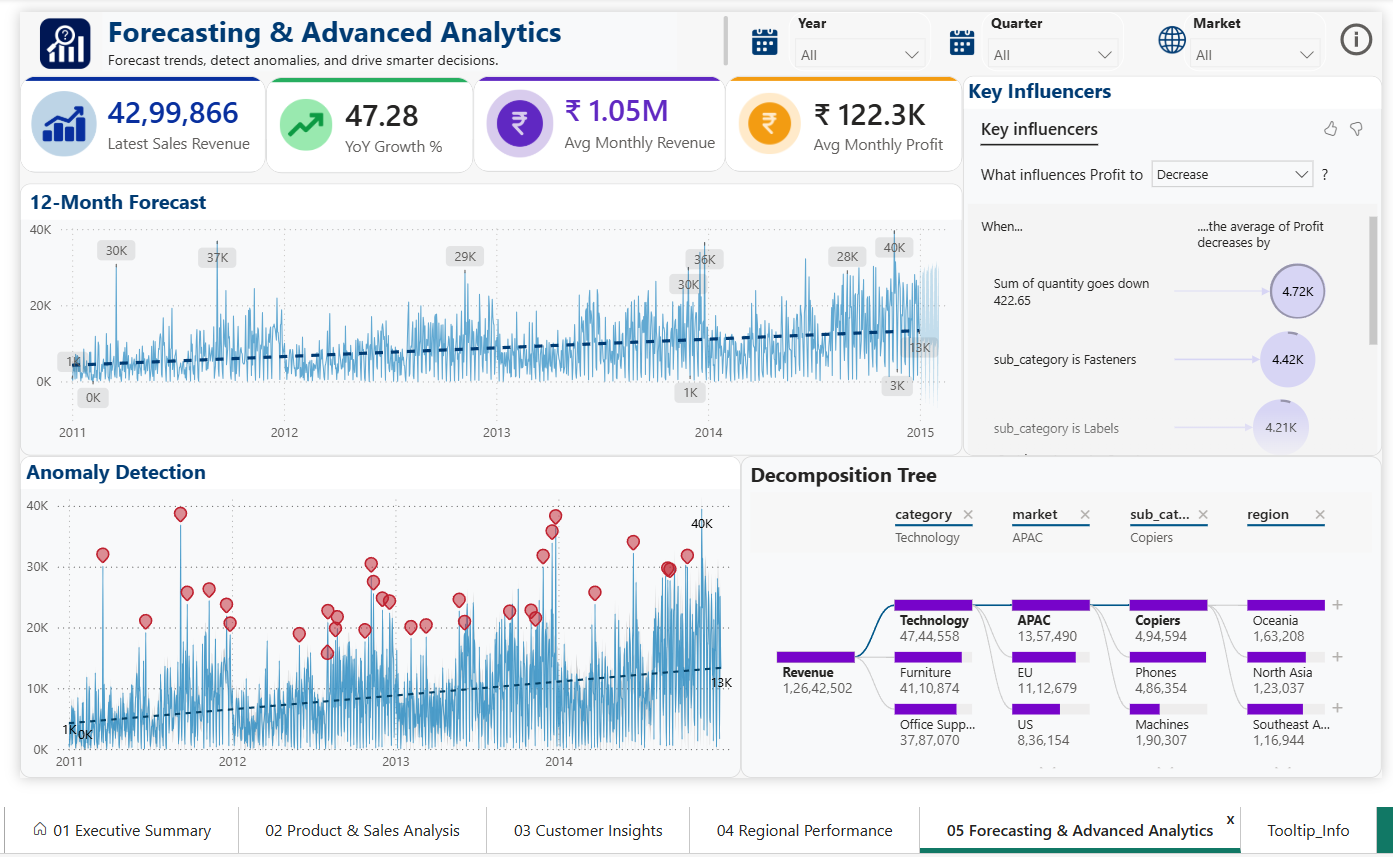

What the dashboard file says about the page in this screenshot:
{"tool":"powerbi","page":{"name":"05 Forecasting & Advanced Analytics","canvas":[1280,720],"ordinal":4},"visuals":[{"type":"cardVisual","fields":{"Data":["_KeyMeasures.Forecast Growth"]},"box":[231,61,195,90],"z":0},{"type":"cardVisual","fields":{"Data":["_KeyMeasures.Average Monthly Revenue"]},"box":[426,60,237,90],"z":1000},{"type":"actionButton","box":[1233,0,47.3,51.3],"z":2000},{"type":"cardVisual","fields":{"Data":["_KeyMeasures.Blank"]},"box":[1232.9,0,47.9,51.4],"z":3000},{"type":"lineChart","title":"12-Month Forecast","fields":{"Y":["_KeyMeasures.Revenue"],"Category":["dim_date.full_date"]},"box":[0,161.4,885.7,255.7],"z":4000},{"type":"cardVisual","fields":{"Data":["_KeyMeasures.Average Monthly Profit"]},"box":[663,60,223,90],"z":5000},{"type":"keyDriversVisual","title":"Key Influencers","fields":{"Target":["_KeyMeasures.Profit"],"ExplainBy":["Sum(fact_sales.discount)","dim_product.category","dim_product.sub_category","dim_region.market","dim_region.region","Sum(fact_sales.quantity)"]},"box":[885.7,60,394.3,357.1],"z":6000},{"type":"lineChart","title":"Anomaly Detection","fields":{"Y":["_KeyMeasures.Revenue"],"Category":["dim_date.full_date"]},"box":[0,417.8,677.8,302.2],"z":7000},{"type":"decompositionTreeVisual","title":"Decomposition Tree","fields":{"Analyze":["_KeyMeasures.Revenue"],"ExplainBy":["dim_product.category","dim_region.market","dim_product.sub_category","dim_region.region","dim_product.product_name"]},"box":[677.8,417.8,602.2,302.2],"z":8000},{"type":"cardVisual","fields":{"Data":["_KeyMeasures.Debug Latest Year"]},"box":[0,60,231,91],"z":9000},{"type":"slicer","fields":{"Values":["dim_date.year"]},"box":[722.5,0,134.2,55.8],"z":10000},{"type":"slicer","fields":{"Values":["dim_date.quarter"]},"box":[904.2,0,134.2,55.8],"z":11000},{"type":"slicer","fields":{"Values":["dim_region.market"]},"box":[1093.3,0,134.2,55.8],"z":12000},{"type":"image","box":[677.5,0,45,52.5],"z":13000},{"type":"image","box":[864.2,0,44.2,54.2],"z":14000},{"type":"image","box":[1063.3,6.7,38.3,41.7],"z":15000},{"type":"shape","box":[640.8,4.2,44.2,46.7],"z":16000},{"type":"textbox","box":[78,0,540,55.6],"z":17000},{"type":"image","box":[0,0,85.6,58.9],"z":18000}]}

Visuals, with their boxes on the page's 1280x720 design canvas (x1, y1, x2, y2). These are canvas units, not pixel positions in the 1393x857 screenshot, which may show the page scaled, cropped or inside an application window:
cardVisual - _KeyMeasures.Forecast Growth: pyautogui.locateOnScreen(231, 61, 426, 151)
cardVisual - _KeyMeasures.Average Monthly Revenue: pyautogui.locateOnScreen(426, 60, 663, 150)
actionButton: pyautogui.locateOnScreen(1233, 0, 1280, 51)
cardVisual - _KeyMeasures.Blank: pyautogui.locateOnScreen(1233, 0, 1281, 51)
"12-Month Forecast" lineChart: pyautogui.locateOnScreen(0, 161, 886, 417)
cardVisual - _KeyMeasures.Average Monthly Profit: pyautogui.locateOnScreen(663, 60, 886, 150)
"Key Influencers" keyDriversVisual: pyautogui.locateOnScreen(886, 60, 1280, 417)
"Anomaly Detection" lineChart: pyautogui.locateOnScreen(0, 418, 678, 720)
"Decomposition Tree" decompositionTreeVisual: pyautogui.locateOnScreen(678, 418, 1280, 720)
cardVisual - _KeyMeasures.Debug Latest Year: pyautogui.locateOnScreen(0, 60, 231, 151)
slicer - dim_date.year: pyautogui.locateOnScreen(722, 0, 857, 56)
slicer - dim_date.quarter: pyautogui.locateOnScreen(904, 0, 1038, 56)
slicer - dim_region.market: pyautogui.locateOnScreen(1093, 0, 1228, 56)
image: pyautogui.locateOnScreen(678, 0, 722, 52)
image: pyautogui.locateOnScreen(864, 0, 908, 54)
image: pyautogui.locateOnScreen(1063, 7, 1102, 48)
shape: pyautogui.locateOnScreen(641, 4, 685, 51)
textbox: pyautogui.locateOnScreen(78, 0, 618, 56)
image: pyautogui.locateOnScreen(0, 0, 86, 59)
